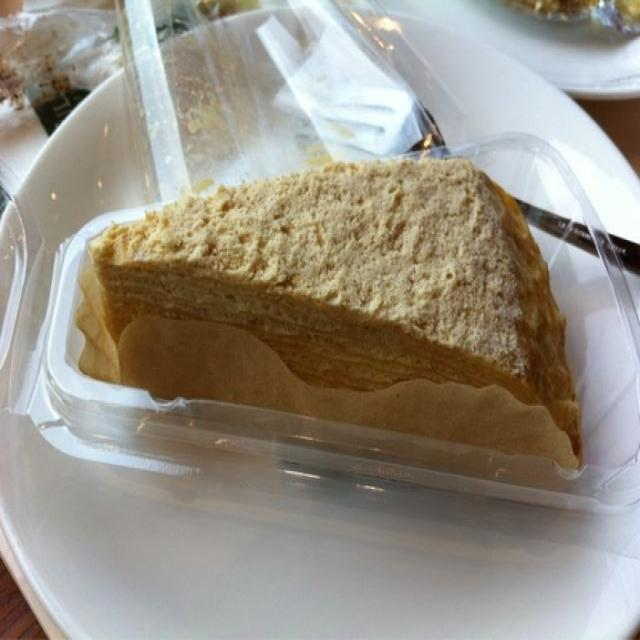寿司卷物: (0, 48, 414, 640)
